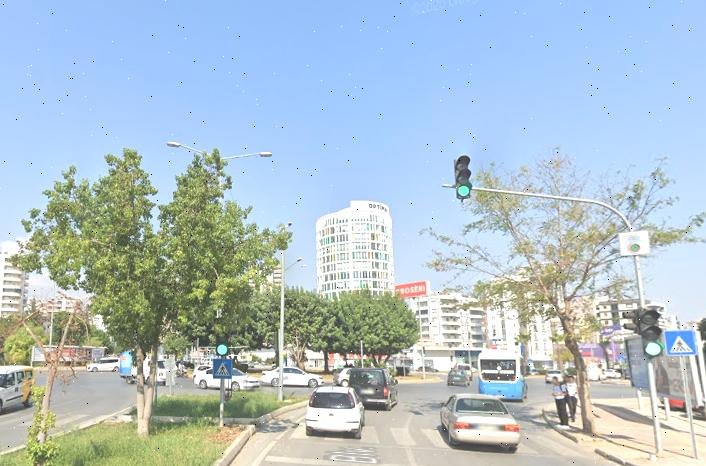greenlight: (638, 306, 662, 360), (455, 154, 472, 200), (215, 308, 230, 354)
